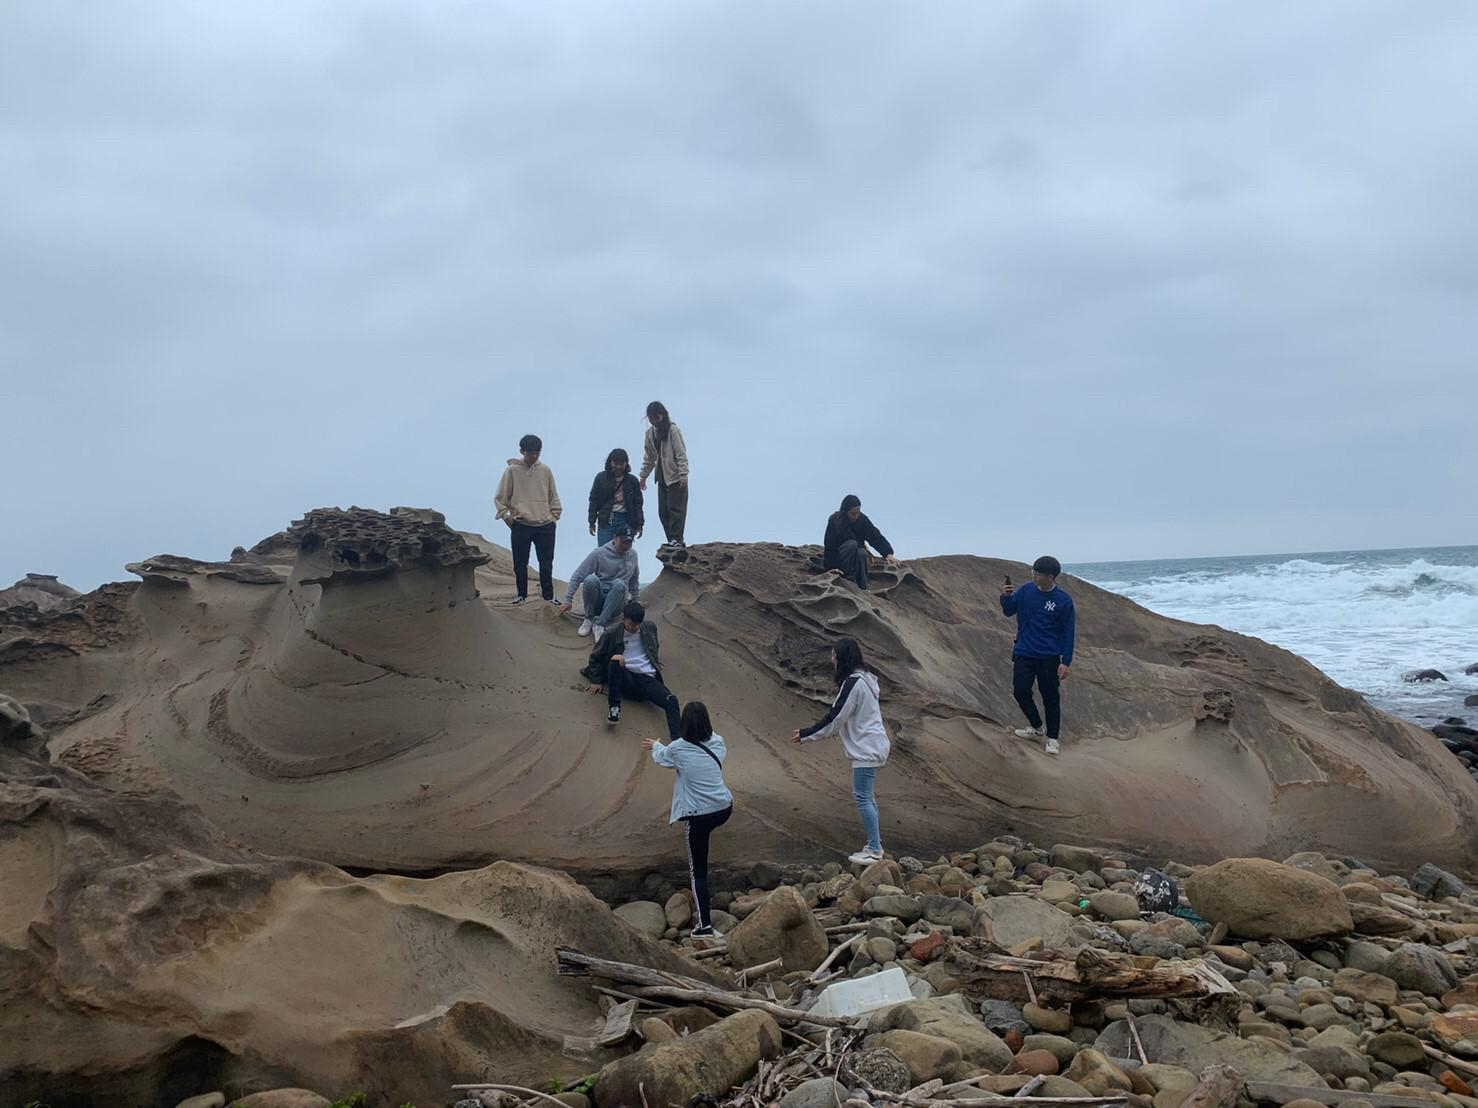people: (658, 700, 733, 934), (831, 638, 898, 867), (998, 548, 1071, 759), (500, 430, 565, 609), (594, 607, 683, 732), (646, 398, 694, 569), (590, 448, 644, 569), (581, 538, 638, 650), (825, 494, 890, 582)
